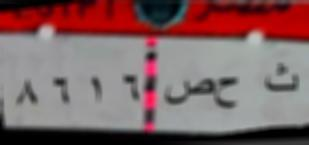1: (83, 72, 106, 106)
6: (116, 65, 145, 107), (49, 70, 76, 115)
7aa: (217, 72, 245, 113)
8: (14, 70, 40, 116)
saad: (166, 72, 215, 110)
thaa: (260, 61, 301, 96)
